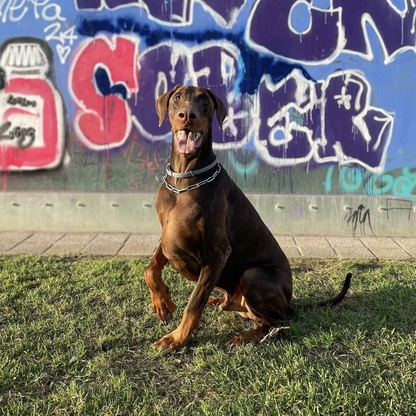doberman: (146, 82, 299, 353)
